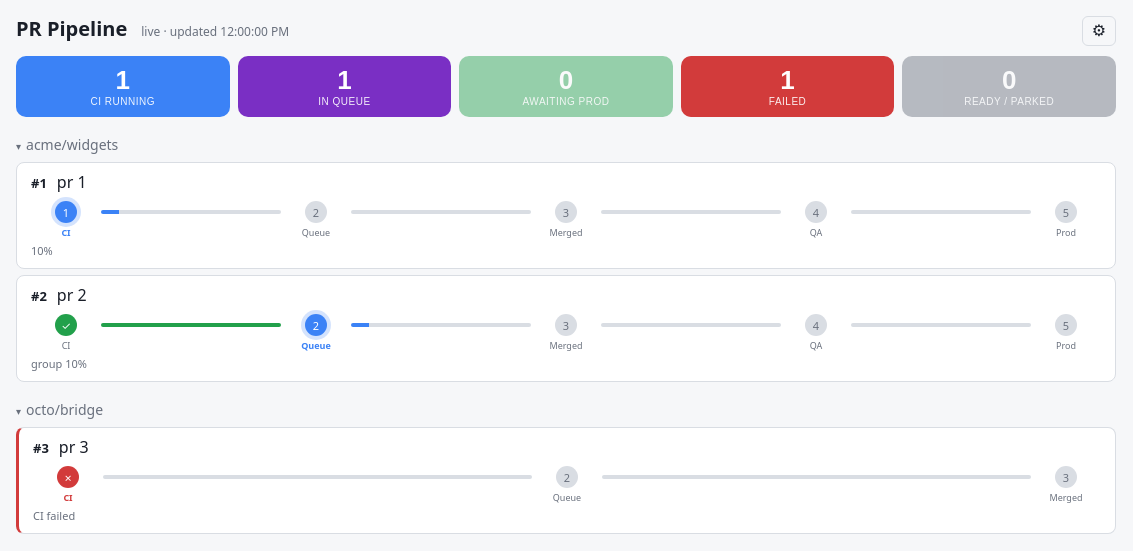
Test: Repo expand/collapse › summary shows failed count in fail color when nonzero
# octo/bridge has 1 parked/ci-failed PR
Click the button "▾ octo/bridge": [65, 410] box [16,400,1116,419]
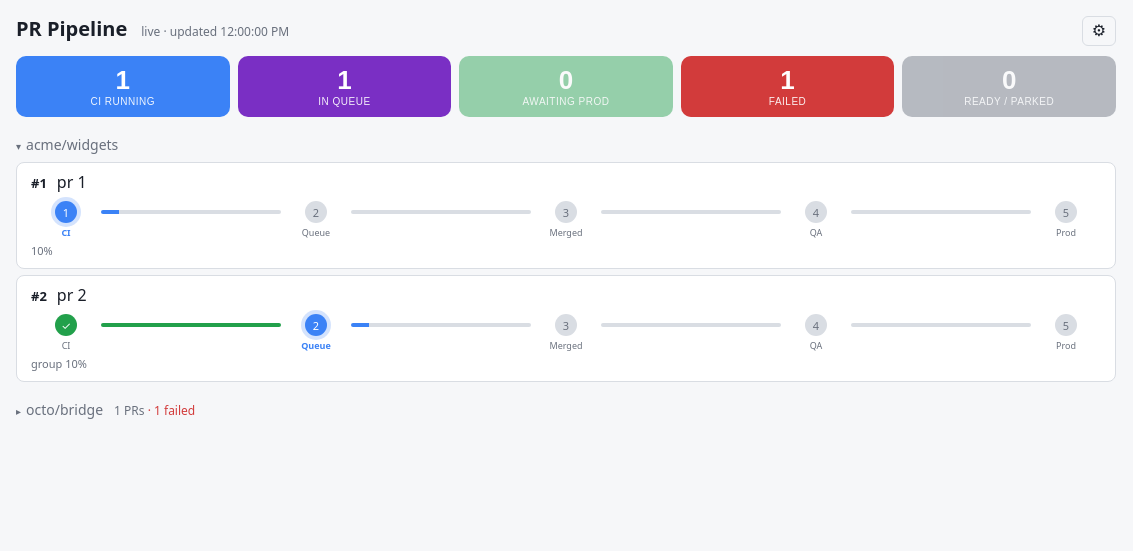
Expected: the button "▸ octo/bridge 1 PRs · 1 failed" is shown, [16,400,1116,419]
